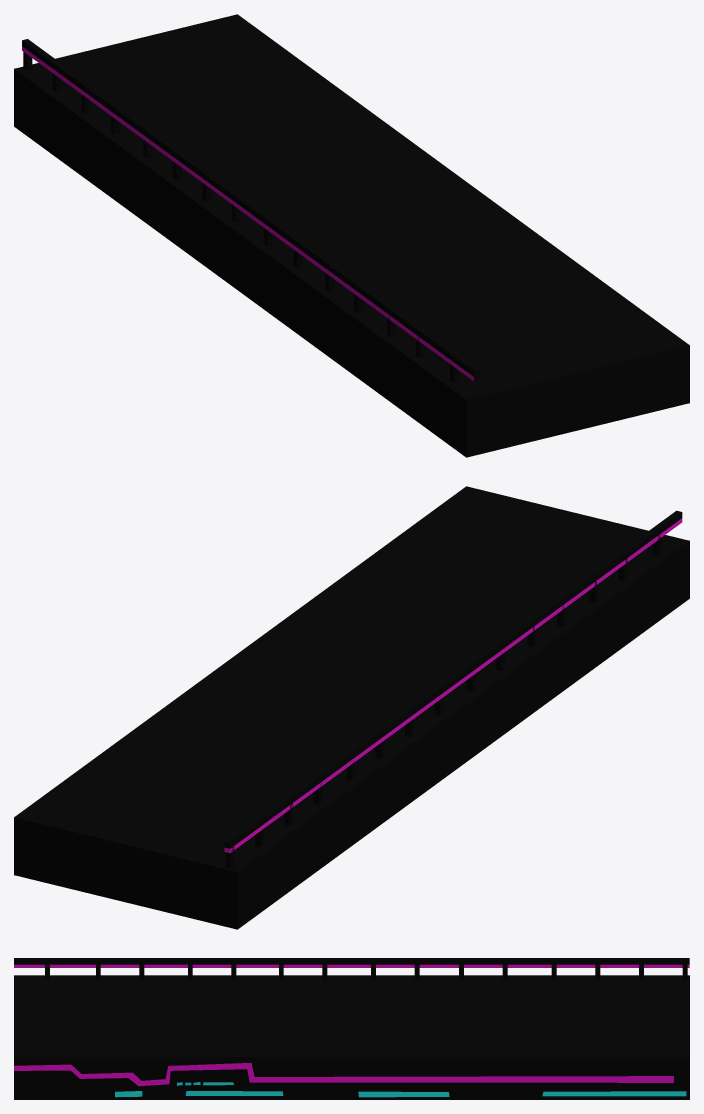
The model's file is neonyol.fbx.
The picture shows the model from 3 angles, top to bottom: view 1: azimuth 30°, elevation 25°; view 2: azimuth 150°, elevation 25°; view 3: azimuth 270°, elevation 25°; orthographic projection. The views are drawn at different scales.
Visible parts, largest first — view 1: Cube.153, Cube.061; view 2: Cube.153, Cube.061; view 3: Cube.153, Cube.061.
Boxes of the visible parts, x1,y1,x2,y2 form: Cube.153: [14, 14, 689, 457]; Cube.061: [23, 45, 689, 457]; Cube.153: [14, 486, 689, 929]; Cube.061: [225, 531, 661, 868]; Cube.153: [14, 958, 689, 1099]; Cube.061: [14, 961, 689, 1099].
Size of the model in its own units: 200 by 72.34 by 701.
